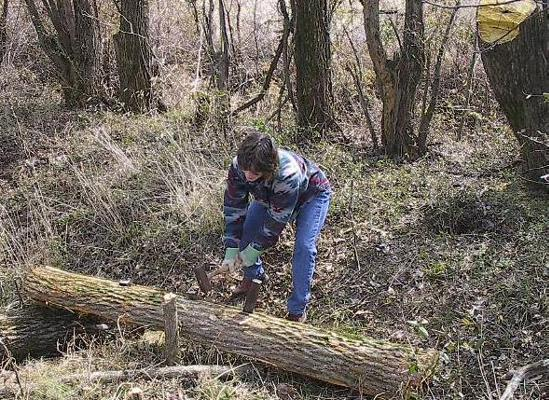person: (218, 131, 332, 325)
